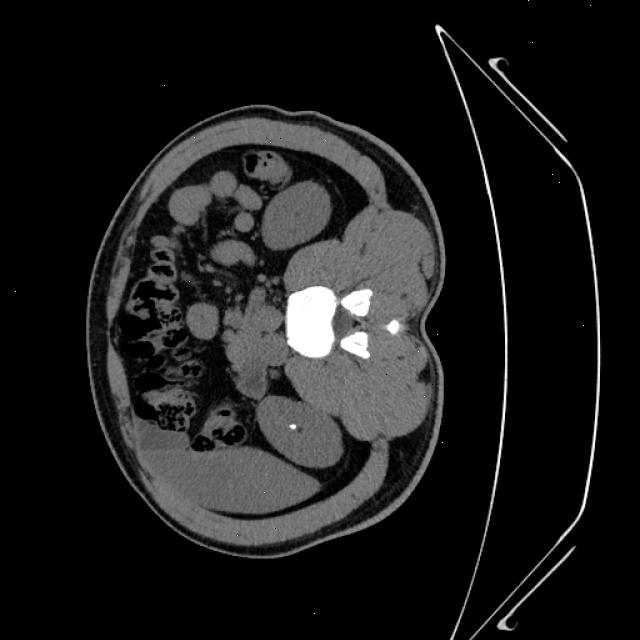kidneystone: (291, 422, 298, 429)
